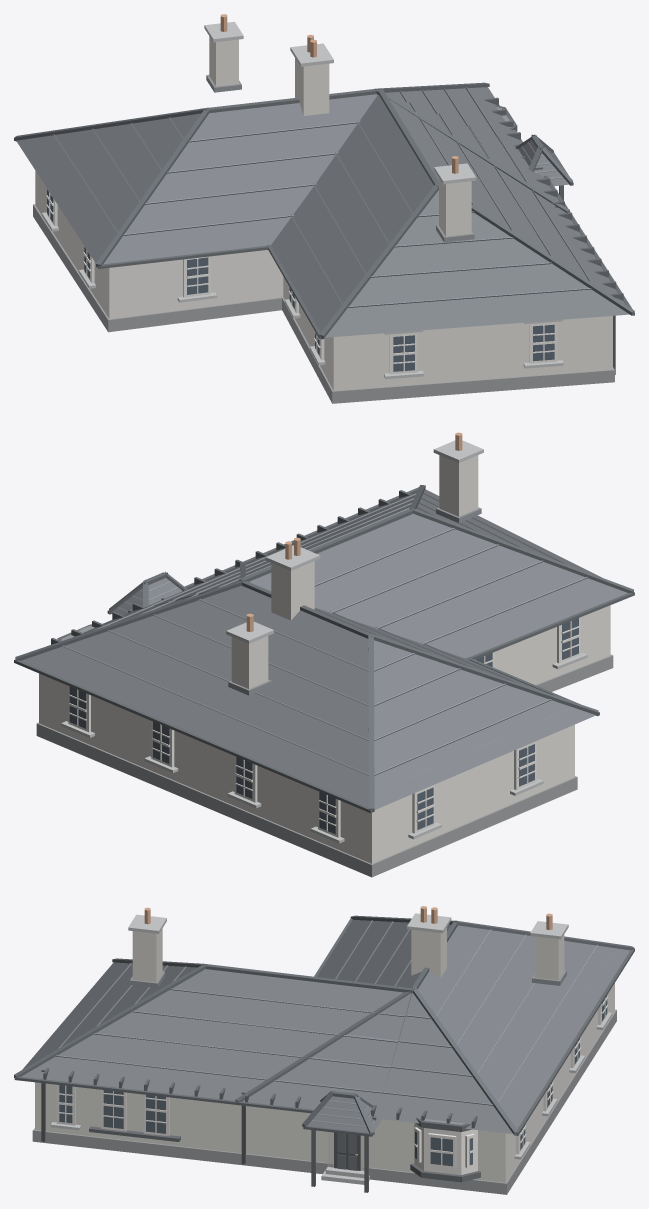
The picture shows the model from 3 angles, top to bottom: view 1: azimuth 30°, elevation 25°; view 2: azimuth 150°, elevation 25°; view 3: azimuth 270°, elevation 25°; orthographic projection. The views are drawn at different scales.
Visible parts, largest first — view 1: slate, harl, slate_dk, plinth, slate_lt, chim_render, stone_band, frame, band_dark, window_glass_014, window_glass_013, window_glass_017 (+1 smaller); view 2: slate, harl, slate_dk, plinth, slate_lt, chim_render, frame, stone_band, band_dark, lead; view 3: slate, harl, slate_dk, plinth, slate_lt, frame, chim_render, band_dark, stone_band, window_glass_001, window_glass_002, door_dark_p (+7 smaller).
Boxes of the visible parts, x1,y1,x2,y2 form: slate: [16, 87, 629, 337]; harl: [35, 171, 612, 390]; slate_dk: [14, 82, 634, 339]; plinth: [33, 204, 614, 403]; slate_lt: [53, 87, 591, 307]; chim_render: [209, 36, 471, 236]; stone_band: [41, 21, 563, 379]; frame: [46, 188, 557, 374]; band_dark: [484, 97, 623, 300]; window_glass_014: [533, 324, 554, 361]; window_glass_013: [393, 335, 414, 371]; window_glass_017: [187, 257, 208, 294]; slate: [21, 489, 627, 809]; harl: [39, 605, 610, 863]; slate_dk: [14, 485, 634, 813]; plinth: [36, 654, 613, 877]; slate_lt: [62, 492, 587, 775]; chim_render: [231, 455, 478, 688]; frame: [68, 617, 580, 837]; stone_band: [61, 440, 587, 843]; band_dark: [51, 490, 411, 644]; lead: [61, 507, 481, 695]; slate: [21, 920, 630, 1133]; harl: [35, 983, 614, 1182]; slate_dk: [14, 915, 634, 1136]; plinth: [32, 1009, 616, 1194]; slate_lt: [55, 920, 597, 1127]; frame: [56, 996, 608, 1174]; chim_render: [132, 927, 564, 982]; band_dark: [43, 1068, 480, 1192]; stone_band: [50, 913, 612, 1184]; window_glass_001: [103, 1090, 123, 1128]; window_glass_002: [146, 1095, 165, 1133]; door_dark_p: [337, 1133, 356, 1170].
Size of the model in its own units: 18.69 by 7.77 by 22.62.
